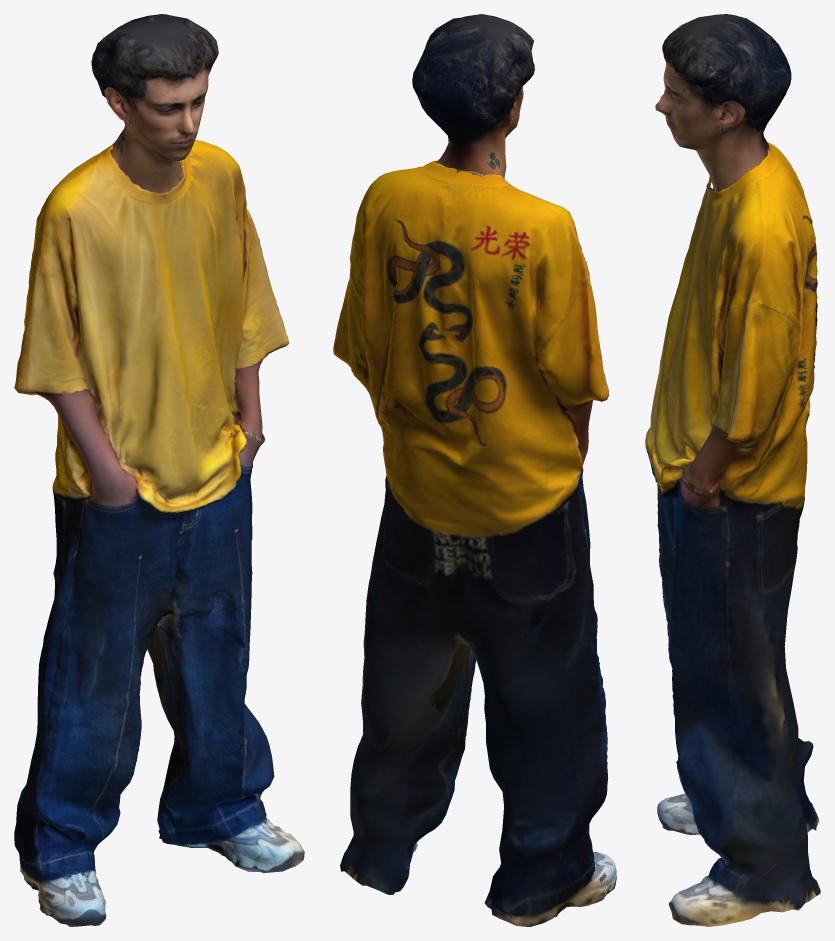
Rendered from Stefano.glb.
The picture shows the model from 3 angles, left to right: view 1: azimuth 30°, elevation 25°; view 2: azimuth 150°, elevation 25°; view 3: azimuth 270°, elevation 25°; orthographic projection.
Visible parts, largest first — view 1: Stefano; view 2: Stefano; view 3: Stefano.
Part boxes in pixels (<box>): Stefano: <box>14,14,304,926</box>; Stefano: <box>333,14,616,926</box>; Stefano: <box>645,14,820,926</box>.
Size of the model in its own units: 0.7107 by 2.14 by 0.4017.
2 materials, 2 textured.
